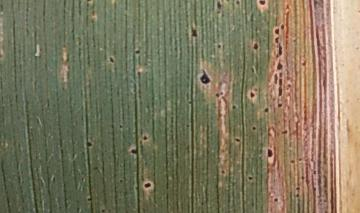tarspot: (196, 64, 213, 89), (261, 143, 279, 164), (274, 77, 285, 100), (187, 23, 200, 41), (244, 87, 259, 102), (276, 127, 294, 139), (247, 121, 261, 134), (271, 32, 284, 46), (141, 180, 156, 192), (248, 40, 263, 52), (272, 60, 287, 72), (114, 122, 128, 134), (106, 52, 117, 67), (132, 44, 143, 59), (216, 167, 231, 178), (82, 138, 95, 150), (137, 131, 150, 143), (82, 192, 95, 204), (283, 80, 296, 92), (133, 68, 145, 81), (127, 146, 141, 157), (243, 173, 257, 184), (299, 57, 309, 72), (273, 100, 288, 110), (255, 1, 271, 10), (260, 104, 272, 116), (296, 171, 308, 183), (286, 154, 297, 167), (309, 165, 320, 178), (270, 73, 280, 87), (228, 101, 239, 113), (271, 195, 282, 207), (214, 1, 224, 14), (95, 205, 111, 213), (181, 121, 193, 131), (292, 193, 305, 202), (274, 47, 284, 58), (293, 183, 303, 192), (311, 184, 318, 196), (278, 22, 287, 31), (215, 42, 225, 50), (233, 135, 241, 145), (233, 1, 242, 8)
